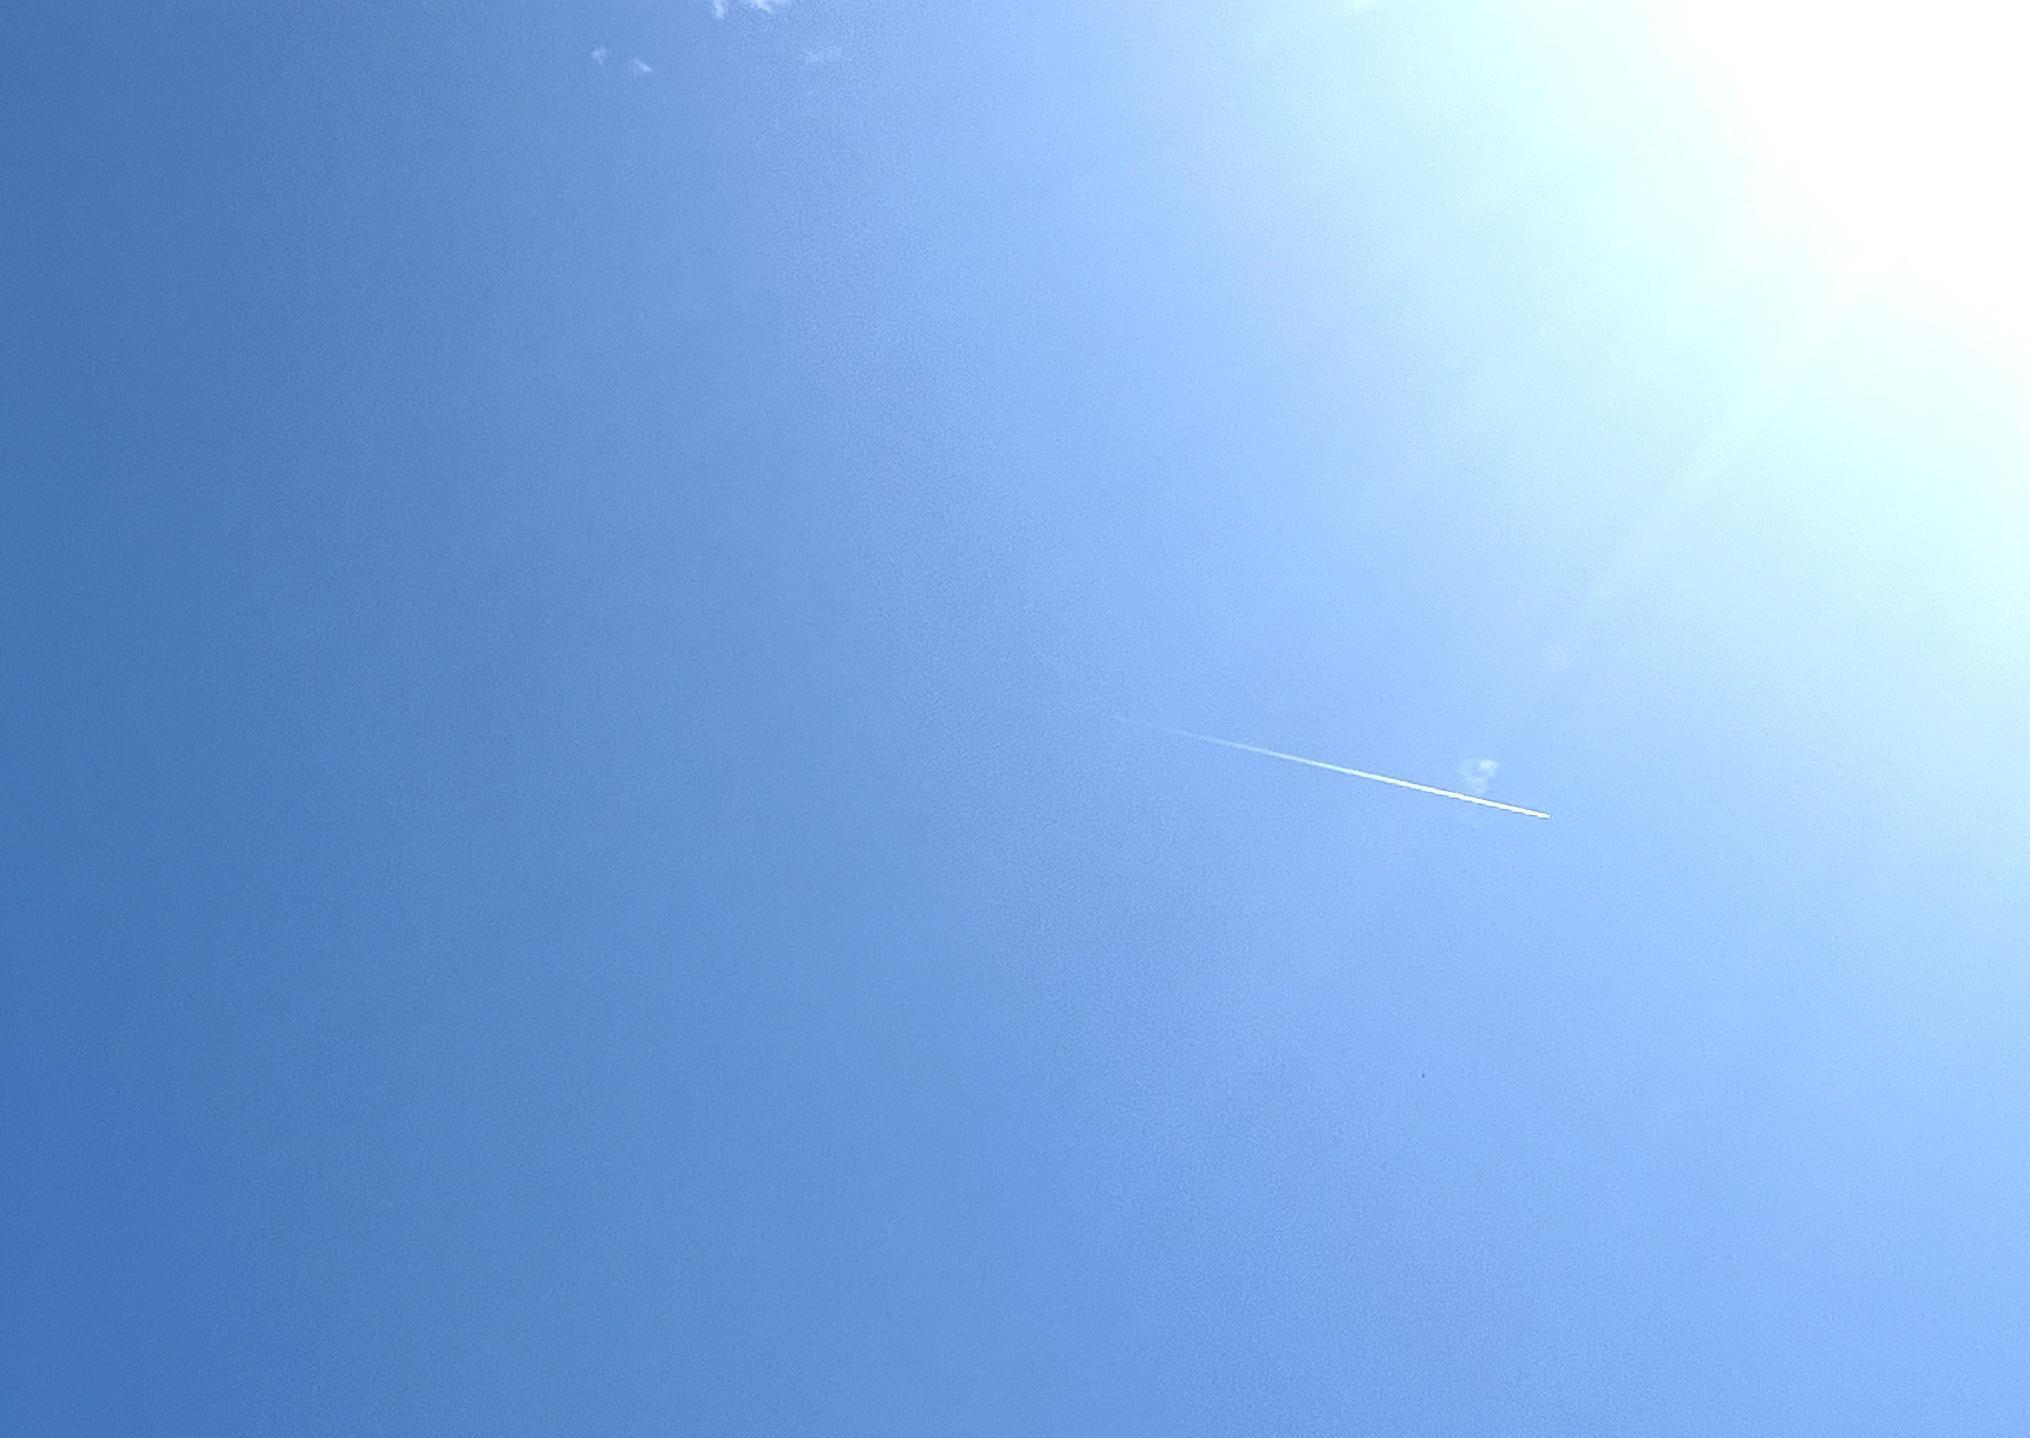Plane: (1123, 714, 1577, 844)
